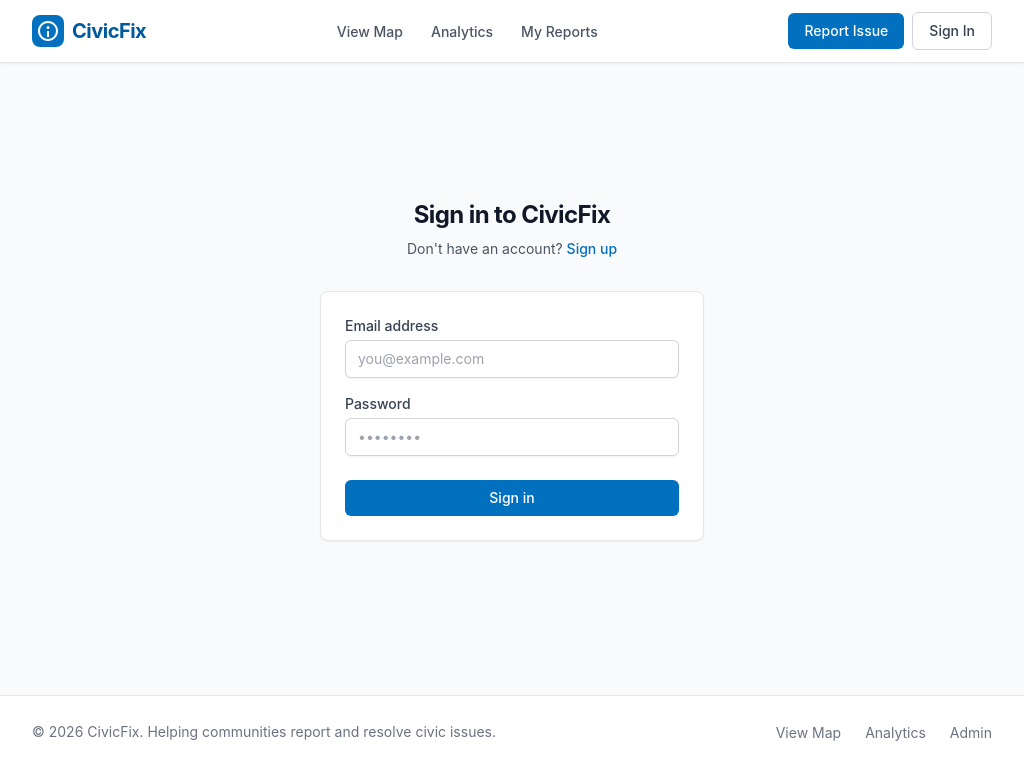
Test: Citizen authentication › shows a safe error message when sign-in fails
Step 1. Type "citizen@example.com" into the field labelled "Email address" → coordinates (512, 359), box [345, 340, 679, 378]
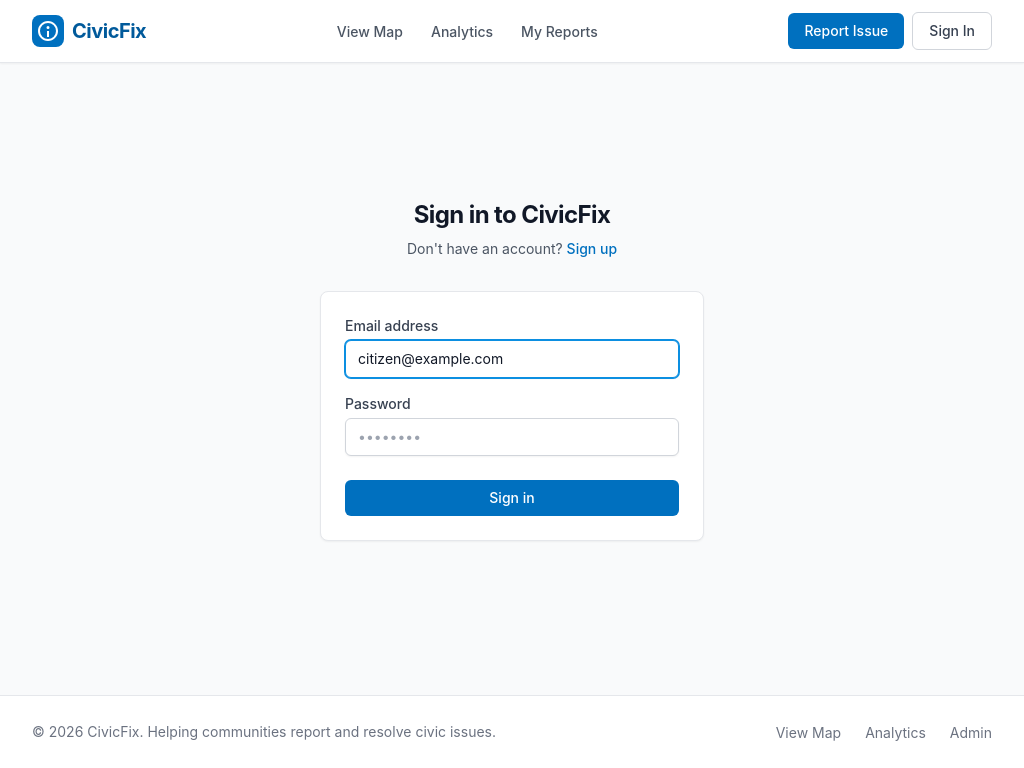
Step 2. Type "wrongpass" into the password field labelled "Password" → coordinates (512, 437), box [345, 418, 679, 456]
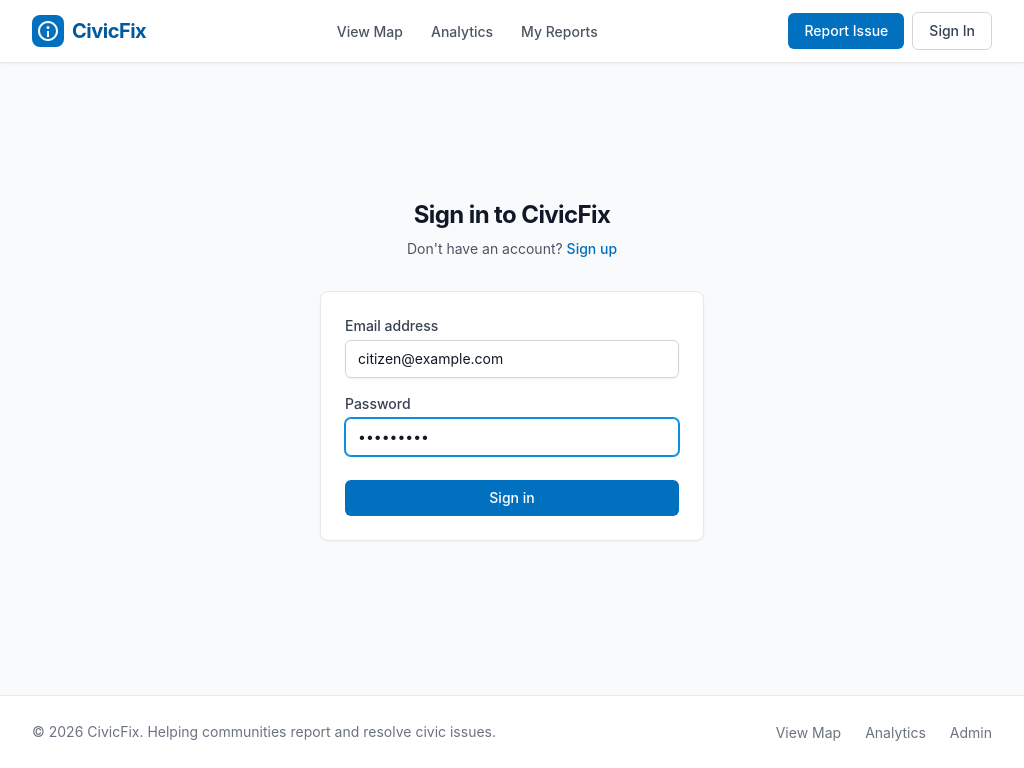
Step 3. Click the button "Sign in" → coordinates (512, 498), box [345, 480, 679, 516]
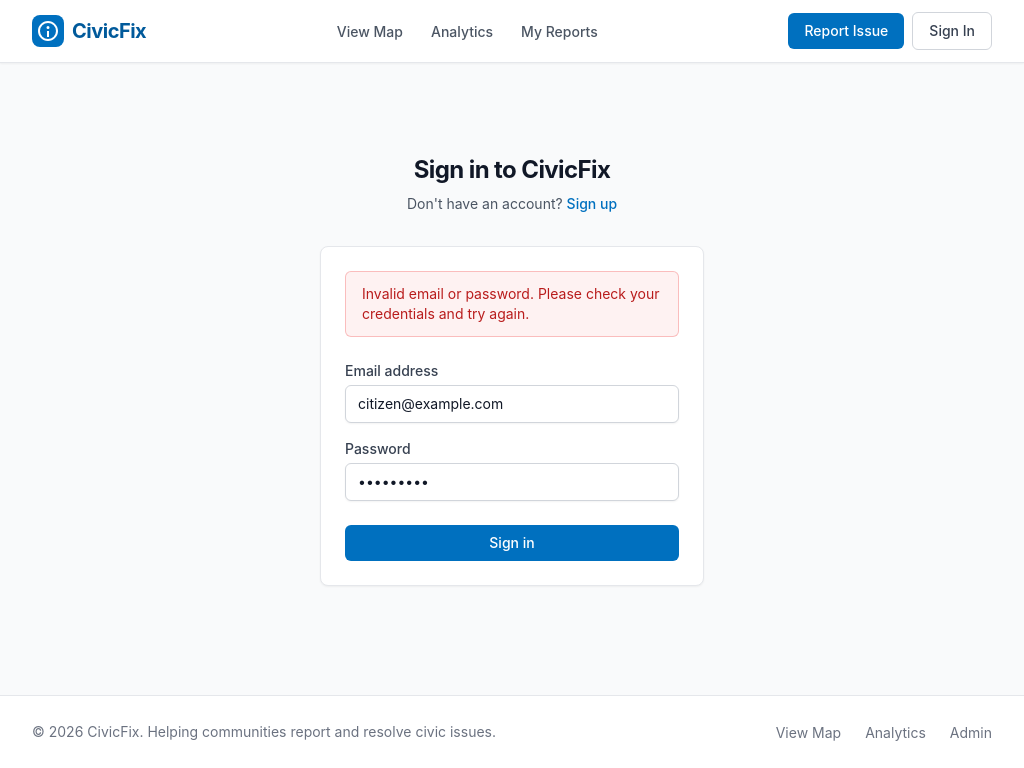
Expected: the message shows "Invalid email or password", [362, 285, 660, 322]
